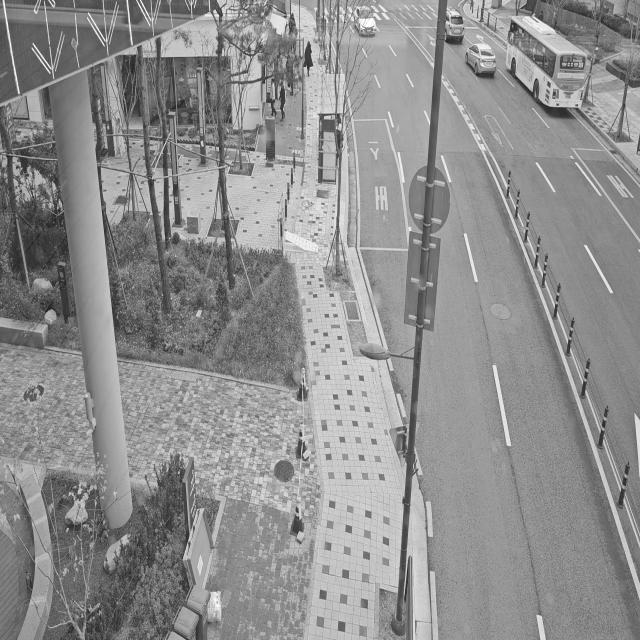Bus: (504, 6, 591, 119)
Car: (348, 2, 382, 42), (466, 36, 498, 78), (443, 0, 468, 49)
